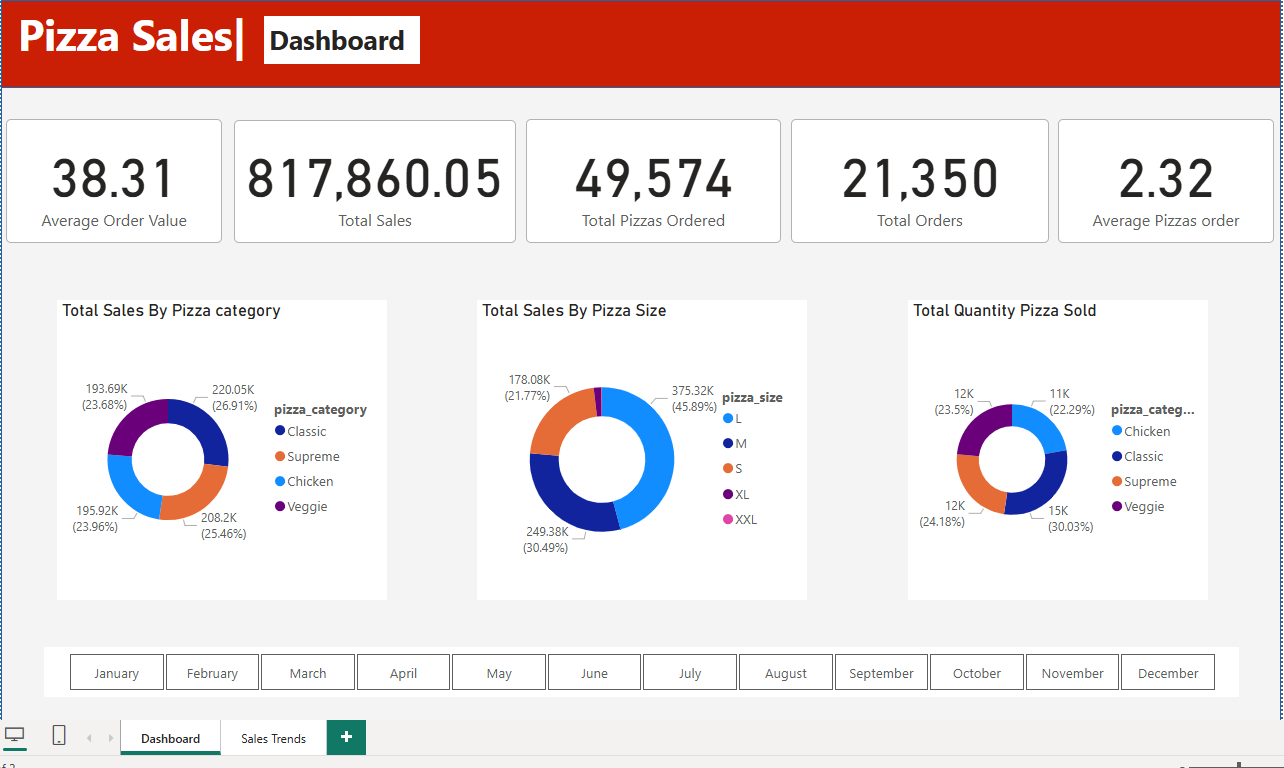

This screenshot's page, from the dashboard's own definition file:
{"tool":"powerbi","page":{"name":"Dashboard","canvas":[1280,720],"ordinal":0},"visuals":[{"type":"shape","box":[0,0,1280,751.1],"z":0},{"type":"shape","box":[0,0,1280,87.8],"z":1000},{"type":"textbox","box":[0,0,263.3,78.7],"z":2000},{"type":"card","fields":{"Values":["Sum(pizza_sales.total_price)"]},"box":[233.3,120,281.9,122.7],"z":3000},{"type":"card","fields":{"Values":["pizza_sales.Average Order Value"]},"box":[5.4,118.7,215.8,124.1],"z":4000},{"type":"card","fields":{"Values":["pizza_sales.count_sales"]},"box":[790.4,118.7,257.6,124.1],"z":5000},{"type":"card","fields":{"Values":["pizza_sales.Average Pizzas order"]},"box":[1057.4,118.7,215.8,124.1],"z":6000},{"type":"card","fields":{"Values":["Sum(pizza_sales.quantity)"]},"box":[524.7,118.7,254.9,124.1],"z":7000},{"type":"donutChart","title":"Total Sales By Pizza category","fields":{"Category":["pizza_sales.pizza_category"],"Y":["Sum(pizza_sales.total_price)"]},"box":[56.3,300,330.2,300],"z":8000},{"type":"donutChart","title":"Total Sales By Pizza Size","fields":{"Category":["pizza_sales.pizza_size"],"Y":["Sum(pizza_sales.total_price)"]},"box":[475.6,300,330.2,300],"z":9000},{"type":"donutChart","title":"Total Quantity Pizza Sold","fields":{"Y":["Sum(pizza_sales.quantity)"],"Series":["pizza_sales.pizza_category"]},"box":[906.6,300,300,300],"z":10000},{"type":"slicer","fields":{"Values":["pizza_sales.order_date.Variation.Date Hierarchy.Month"]},"box":[43.4,646.6,1194.3,50.4],"z":19000},{"type":"textbox","box":[263.3,16,156.2,47.9],"z":20000}]}

Visuals, with their boxes on the page's 1280x720 design canvas (x1, y1, x2, y2). These are canvas units, not pixel positions in the 1284x768 screenshot, which may show the page scaled, cropped or inside an application window:
shape: crop(0, 0, 1280, 751)
shape: crop(0, 0, 1280, 88)
textbox: crop(0, 0, 263, 79)
card - Sum(pizza_sales.total_price): crop(233, 120, 515, 243)
card - pizza_sales.Average Order Value: crop(5, 119, 221, 243)
card - pizza_sales.count_sales: crop(790, 119, 1048, 243)
card - pizza_sales.Average Pizzas order: crop(1057, 119, 1273, 243)
card - Sum(pizza_sales.quantity): crop(525, 119, 780, 243)
"Total Sales By Pizza category" donutChart: crop(56, 300, 386, 600)
"Total Sales By Pizza Size" donutChart: crop(476, 300, 806, 600)
"Total Quantity Pizza Sold" donutChart: crop(907, 300, 1207, 600)
slicer - pizza_sales.order_date.Variation.Date Hierarchy.Month: crop(43, 647, 1238, 697)
textbox: crop(263, 16, 420, 64)
